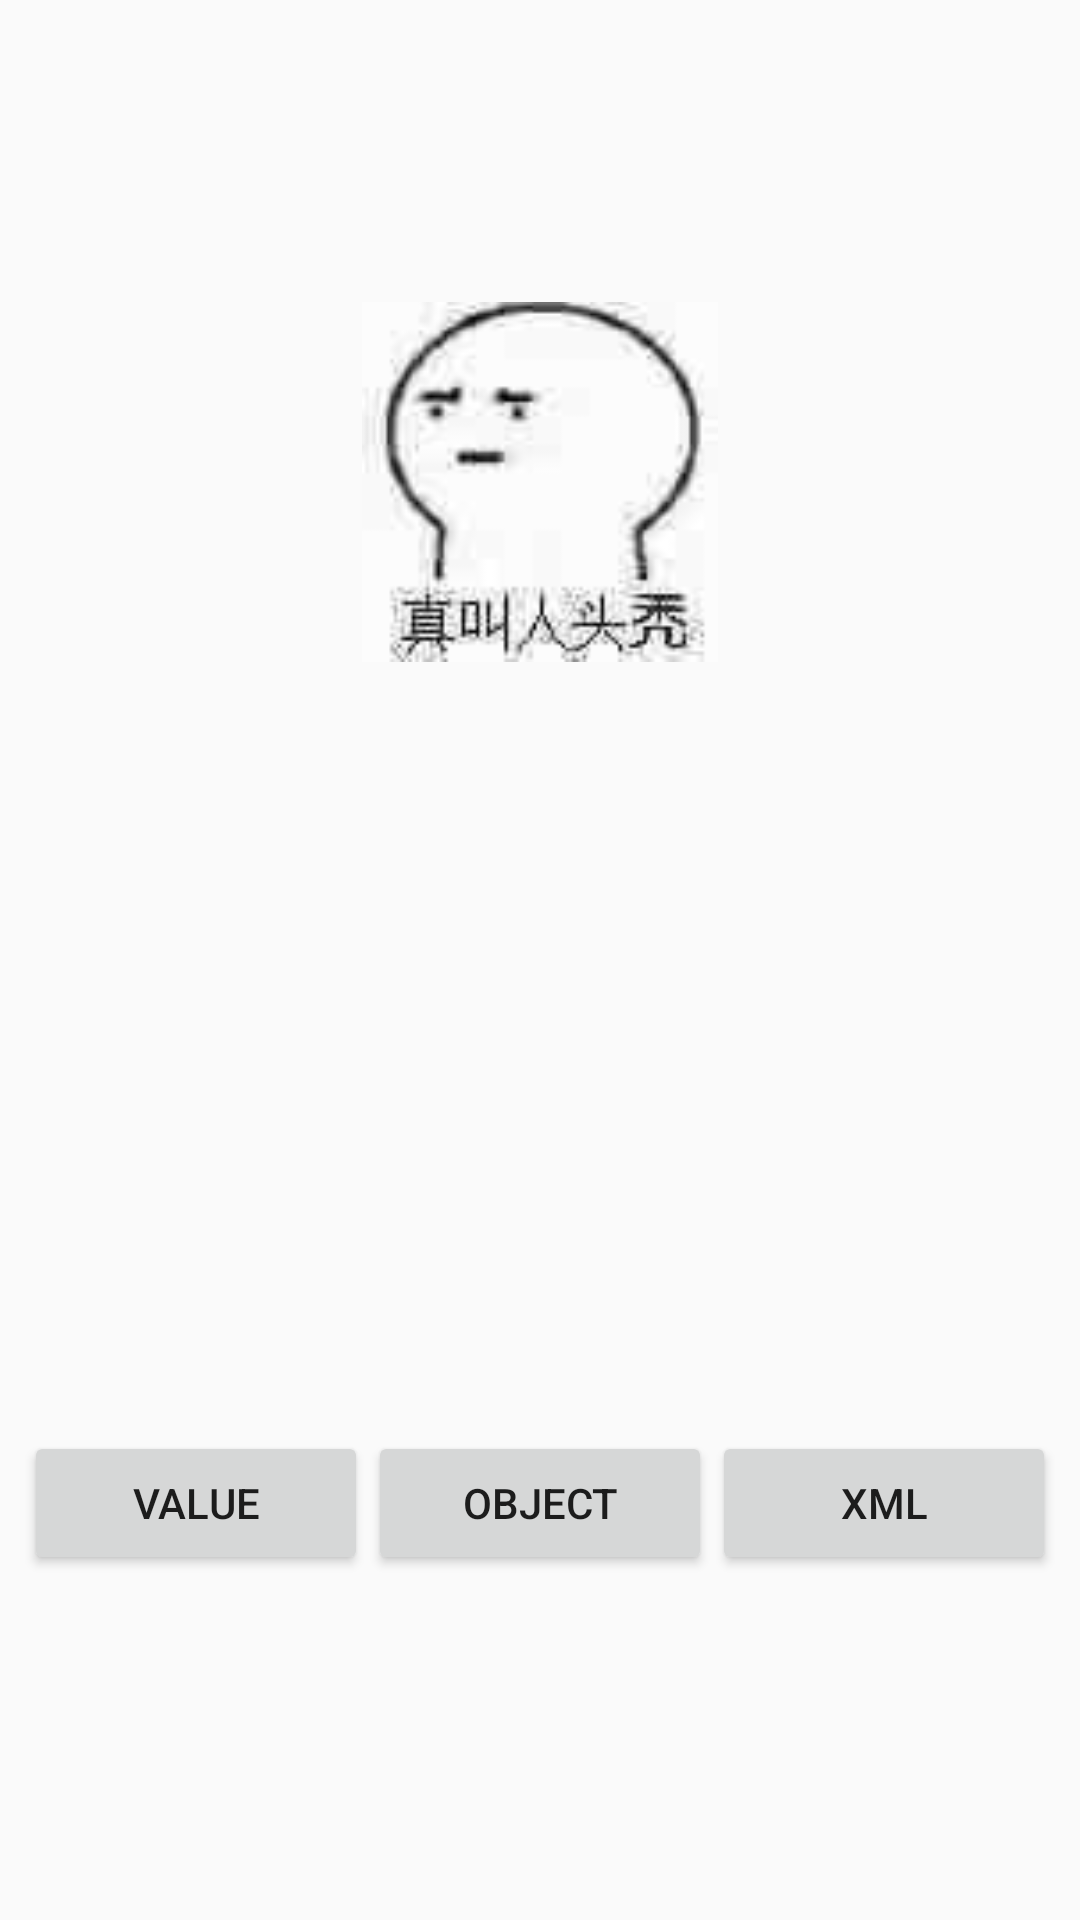

Named icons in this screenshot (1080px×1920px) and their bounding boxes, (x1, y1, x2, y2):
sad: (383, 302, 705, 662)
